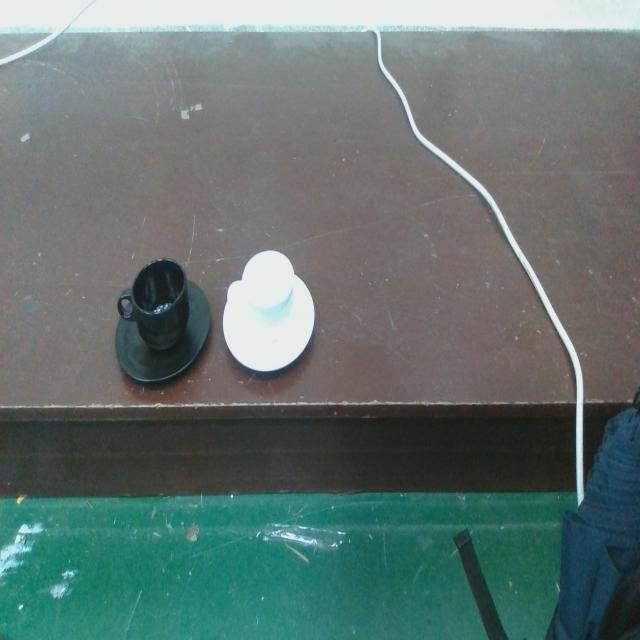black: (113, 254, 214, 390)
white: (220, 246, 318, 378)
